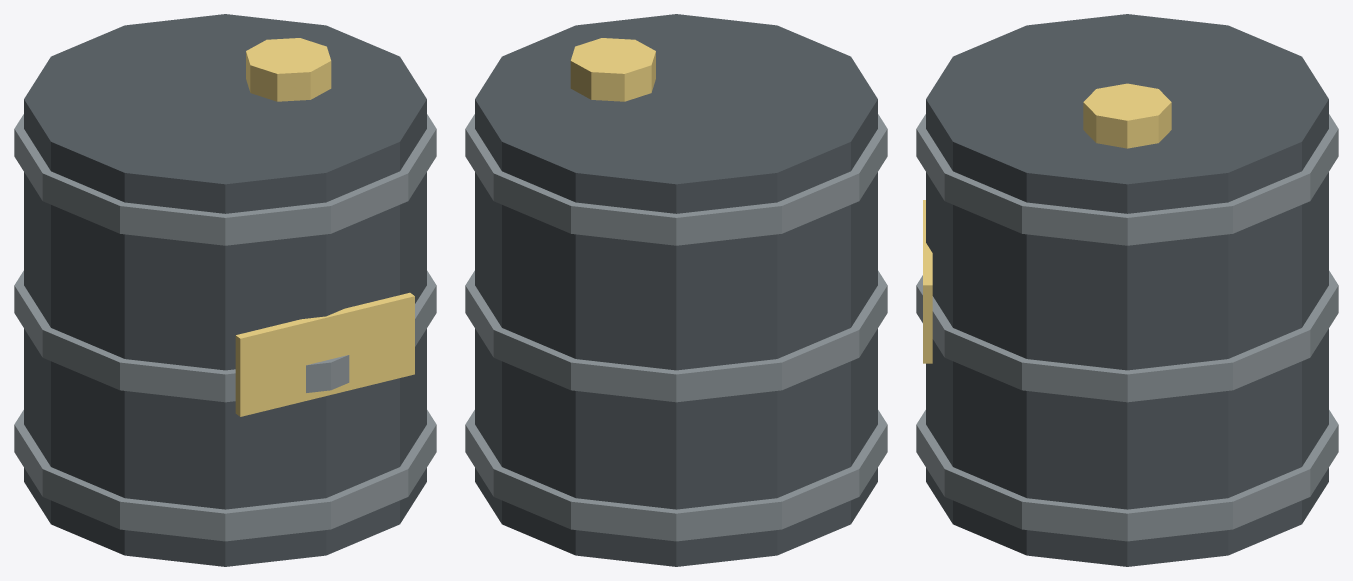
File: crude-oil.glb
3 renders of one model, left to right at view 1: azimuth 30°, elevation 25°; view 2: azimuth 150°, elevation 25°; view 3: azimuth 270°, elevation 25°, orthographic.
Parts seen in each view (by area): view 1: crude-oil / Graphite enamel, crude-oil / Machined steel, crude-oil / Gold markings and contacts; view 2: crude-oil / Graphite enamel, crude-oil / Machined steel, crude-oil / Gold markings and contacts; view 3: crude-oil / Graphite enamel, crude-oil / Machined steel, crude-oil / Gold markings and contacts.
Part boxes in pixels (<box>): crude-oil / Graphite enamel: <box>24,14,426,566</box>; crude-oil / Machined steel: <box>14,114,436,541</box>; crude-oil / Gold markings and contacts: <box>235,38,414,416</box>; crude-oil / Graphite enamel: <box>475,14,877,566</box>; crude-oil / Machined steel: <box>465,114,887,541</box>; crude-oil / Gold markings and contacts: <box>570,38,655,101</box>; crude-oil / Graphite enamel: <box>926,14,1328,566</box>; crude-oil / Machined steel: <box>916,114,1338,541</box>; crude-oil / Gold markings and contacts: <box>923,83,1171,363</box>.
Size of the model in its own units: 0.22 by 0.236 by 0.22.
